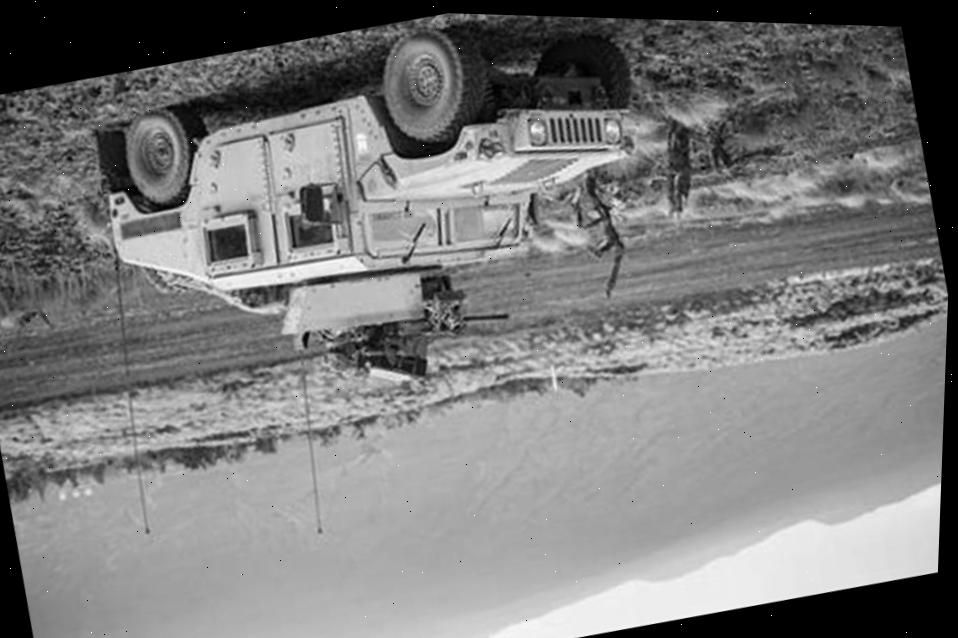armored_car: (70, 3, 690, 450)
